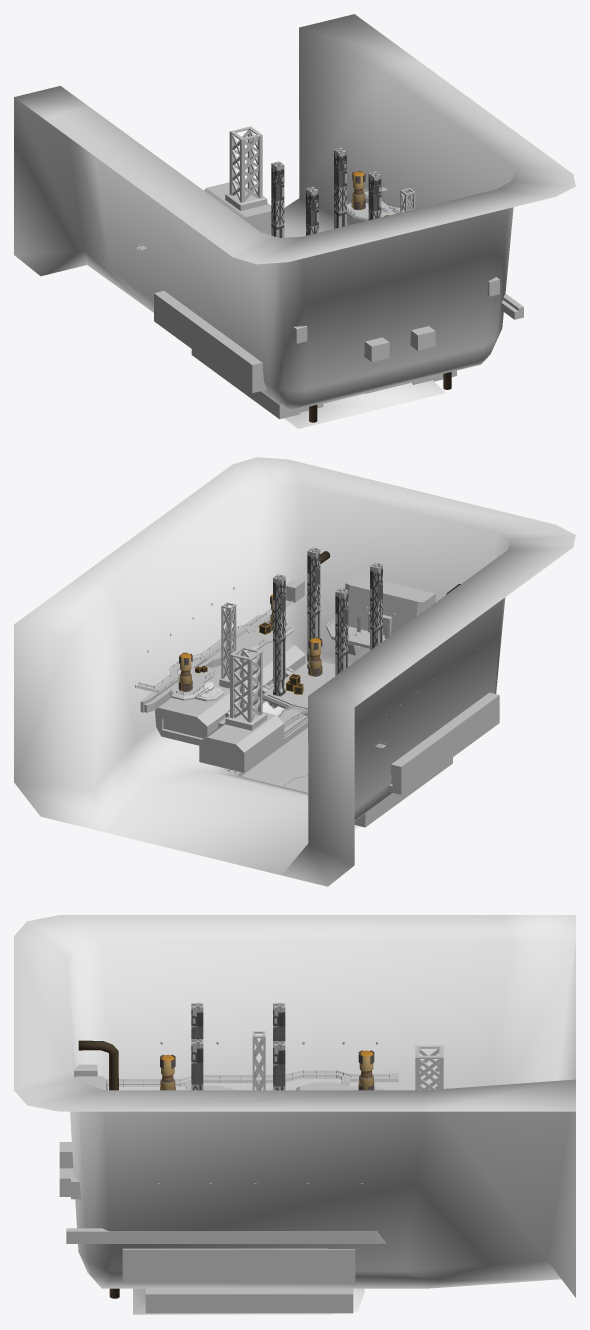
3 renders of one model, top to bottom at view 1: azimuth 30°, elevation 25°; view 2: azimuth 150°, elevation 25°; view 3: azimuth 270°, elevation 25°, orthographic. The views are drawn at different scales.
Visible parts, largest first — view 1: Rocks.LowPoly, Cube.015, Cube.014, Cube.013, Cube.012, Pillar.003, Pillar, Pillar.001, Pillar.002, Cube.003, Cube; view 2: Rocks.LowPoly, Cube.015, Cube.011, Cube.018, Cube.012, Cube.014, Cube.007, Pillar, Arena.Lowpoly, Pillar.001, Pillar.003, Cube.013 (+6 smaller); view 3: Rocks.LowPoly, Cube.011, Cube.013, Cube.021, Cube.009, Cube.014, Cylinder.002, Cube.010, Pillar.001, Pillar, FuelTank.003, FuelTank.002 (+1 smaller).
Part boxes in pixels (left/top/right/bottom): Rocks.LowPoly: left=14, top=14, right=575, bottom=428; Cube.015: left=154, top=291, right=267, bottom=393; Cube.014: left=225, top=126, right=267, bottom=210; Cube.013: left=191, top=349, right=456, bottom=419; Cube.012: left=204, top=182, right=271, bottom=234; Pillar.003: left=271, top=161, right=284, bottom=237; Pillar: left=334, top=147, right=346, bottom=228; Pillar.001: left=368, top=171, right=381, bottom=220; Pillar.002: left=306, top=186, right=318, bottom=235; Cube.003: left=364, top=337, right=389, bottom=361; Cube: left=410, top=326, right=435, bottom=350; Rocks.LowPoly: left=14, top=457, right=575, bottom=886; Cube.015: left=386, top=692, right=499, bottom=794; Cube.011: left=155, top=642, right=305, bottom=745; Cube.018: left=326, top=574, right=435, bottom=648; Cube.012: left=199, top=712, right=284, bottom=772; Cube.014: left=225, top=646, right=267, bottom=730; Cube.007: left=242, top=727, right=308, bottom=792; Pillar: left=273, top=574, right=285, bottom=696; Arena.Lowpoly: left=262, top=661, right=335, bottom=715; Pillar.001: left=307, top=547, right=320, bottom=668; Pillar.003: left=335, top=588, right=348, bottom=675; Cube.013: left=224, top=720, right=452, bottom=827; Rocks.LowPoly: left=14, top=915, right=575, bottom=1314; Cube.011: left=122, top=1248, right=355, bottom=1282; Cube.013: left=145, top=1288, right=353, bottom=1313; Cube.021: left=66, top=1228, right=386, bottom=1243; Cube.009: left=106, top=1073, right=397, bottom=1086; Cube.014: left=415, top=1045, right=443, bottom=1090; Cylinder.002: left=78, top=1040, right=118, bottom=1090; Cube.010: left=252, top=1031, right=265, bottom=1090; Pillar.001: left=191, top=1039, right=203, bottom=1090; Pillar: left=273, top=1041, right=285, bottom=1090; FuelTank.003: left=358, top=1050, right=374, bottom=1090; FuelTank.002: left=160, top=1054, right=175, bottom=1090.
Bounding box in the file's own units: 113 × 93.86 × 57.51.
